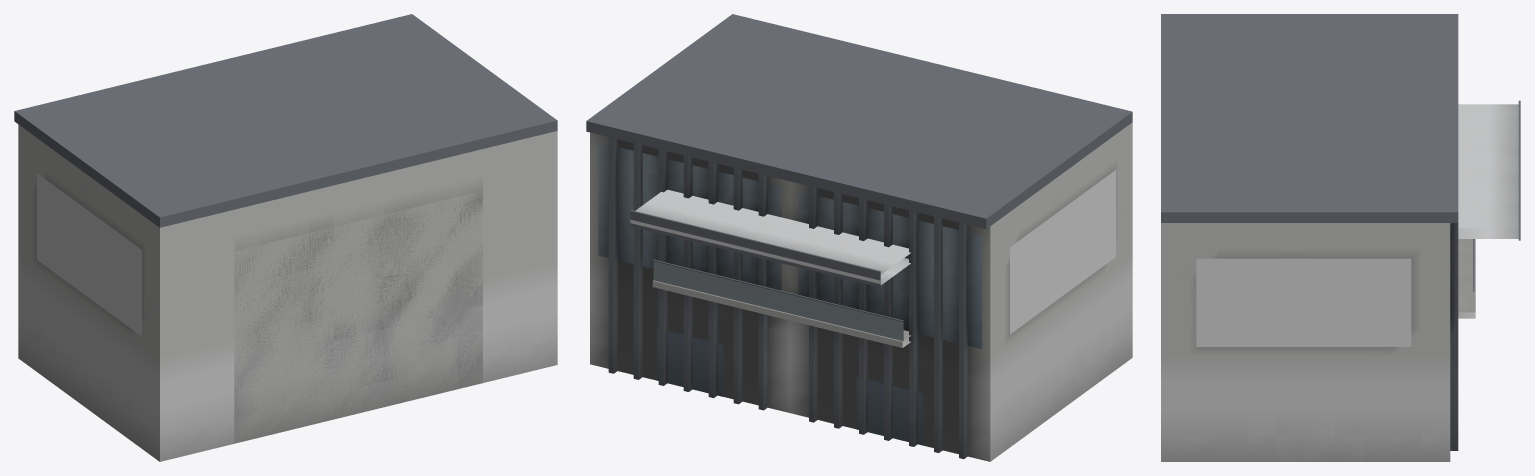
The model's file is pits.glb.
3 renders of one model, left to right at view 1: azimuth 30°, elevation 25°; view 2: azimuth 150°, elevation 25°; view 3: azimuth 270°, elevation 25°, orthographic. The views are drawn at different scales.
Visible parts, largest first — view 1: end_b-solid, end_a-solid, bay-solid, end_b-panel; view 2: end_b-solid, end_a-solid, bay-solid, end_b-glass, end_a-glass, end_b-panel, bay-clear, bay-team; view 3: end_a-solid, end_b-solid, end_a-panel, bay-solid.
Part boxes in pixels (x1,y1,x2,y2): end_b-solid: (14,62,358,461); end_a-solid: (213,14,557,412); bay-solid: (234,192,482,443); end_b-panel: (37,173,141,336); end_b-solid: (786,63,1132,461); end_a-solid: (586,14,932,412); bay-solid: (630,189,910,347); end_b-glass: (798,191,981,445); end_a-glass: (598,142,781,396); end_b-panel: (1010,170,1115,334); bay-clear: (653,261,903,341); bay-team: (630,219,880,283); end_a-solid: (1161,113,1458,461); end_b-solid: (1161,14,1458,112); end_a-panel: (1196,258,1411,346); bay-solid: (1458,100,1520,318).
Size of the model in its own units: 24.06 by 14.1 by 18.41.
